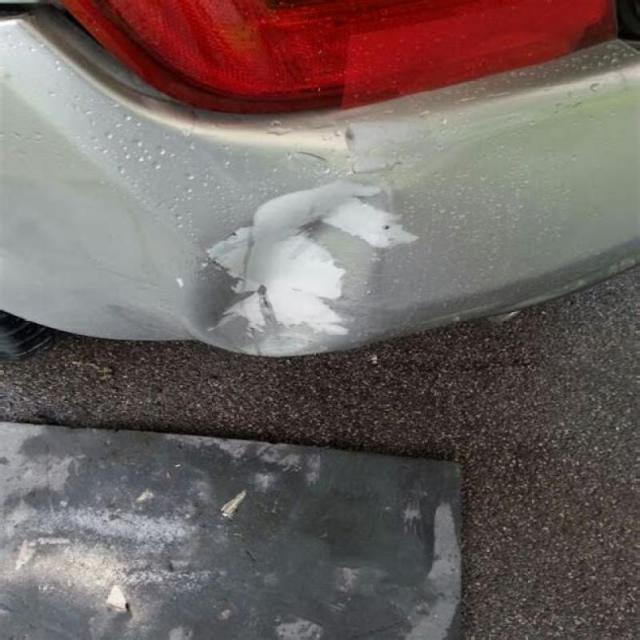car damage: (183, 167, 406, 349)
